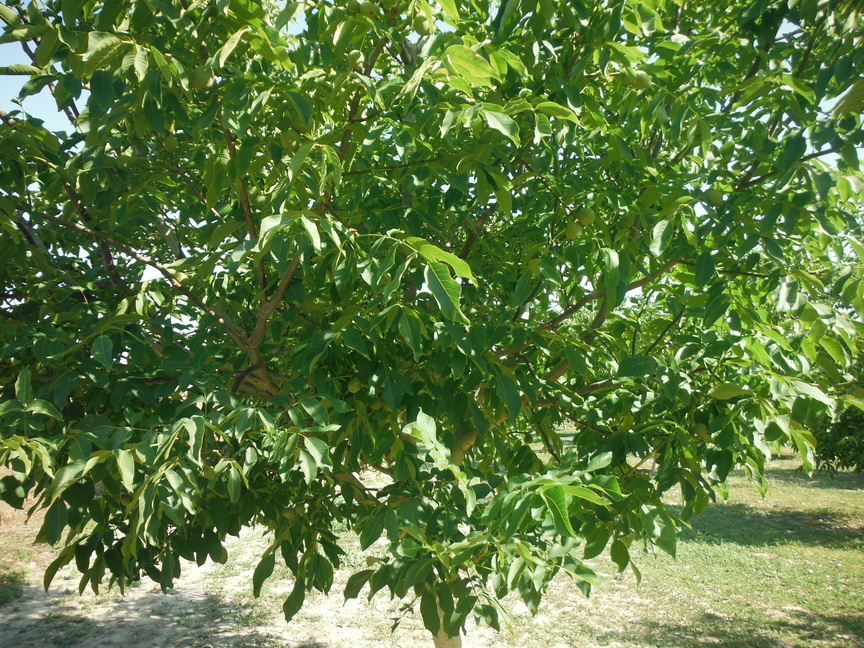walnut: (190, 59, 219, 95), (410, 7, 435, 39), (277, 127, 305, 155), (292, 111, 318, 137), (615, 64, 639, 91), (345, 46, 368, 73), (574, 202, 597, 229), (484, 85, 506, 113), (702, 186, 726, 211), (272, 108, 296, 133), (630, 67, 653, 92), (112, 151, 138, 173), (563, 219, 584, 246), (160, 132, 184, 155), (615, 210, 638, 232), (169, 268, 191, 290), (358, 0, 379, 22), (250, 191, 271, 210), (376, 269, 395, 289), (118, 491, 137, 511), (347, 373, 364, 395), (366, 393, 386, 411), (690, 420, 710, 438), (123, 72, 140, 93), (443, 566, 460, 583), (346, 0, 363, 16), (279, 503, 296, 519), (635, 406, 653, 421), (380, 396, 394, 415), (292, 502, 309, 515), (522, 431, 536, 445), (480, 223, 493, 236), (485, 229, 497, 240), (490, 234, 501, 245)
